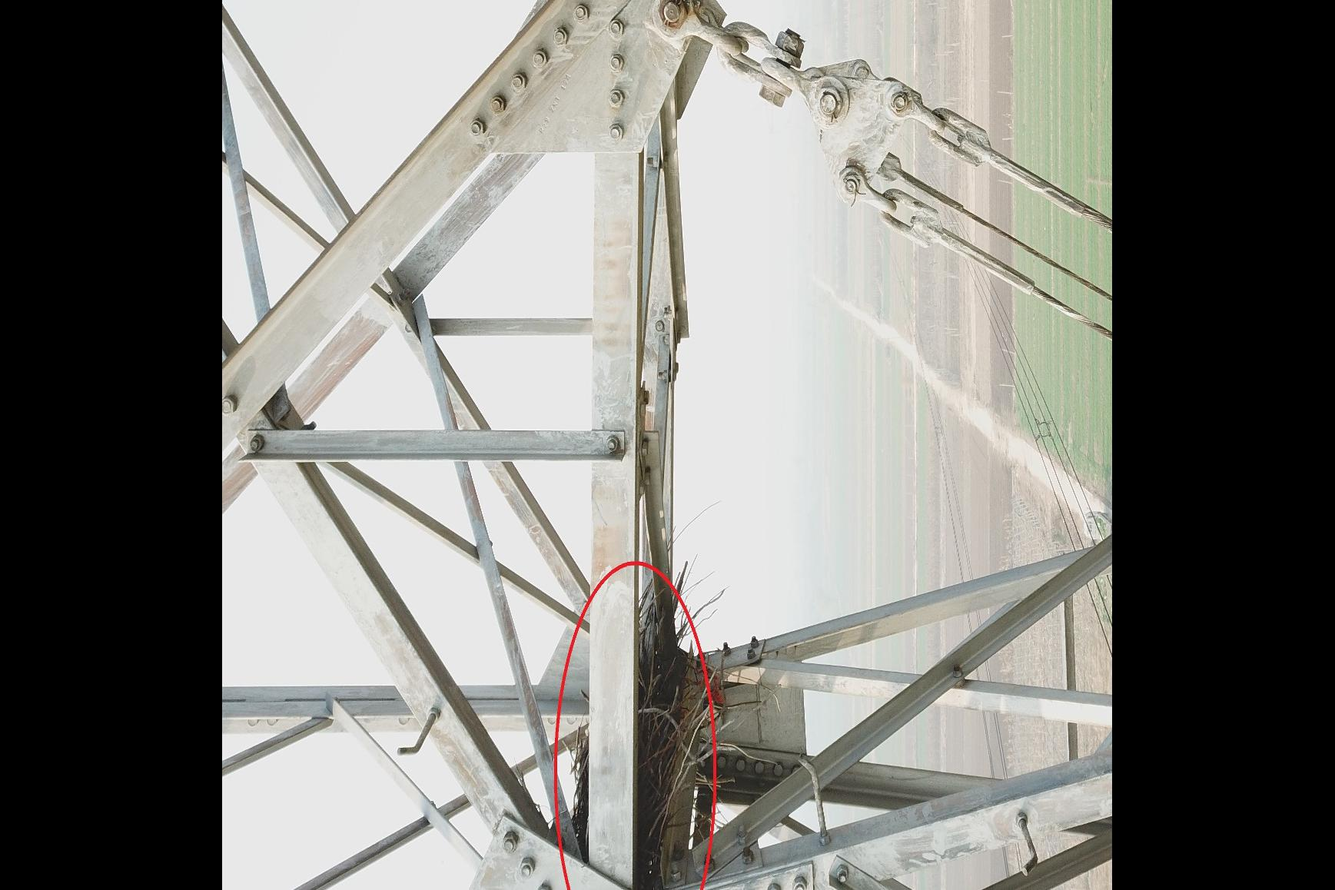nest: (566, 553, 735, 890)
